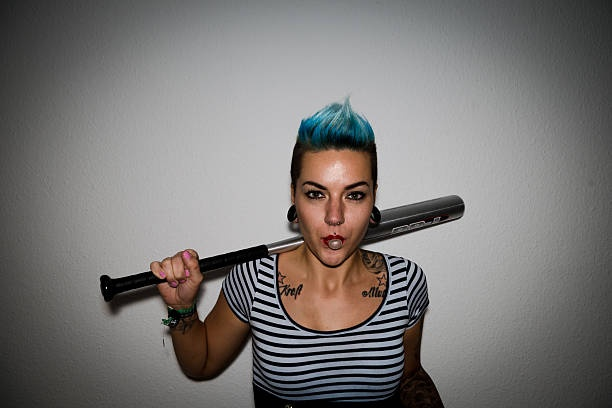bita: (100, 195, 465, 301)
